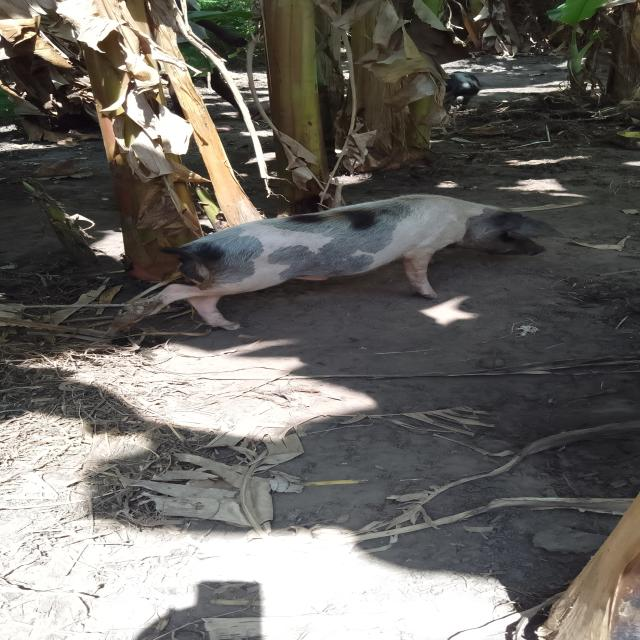pig: (69, 170, 594, 347)
